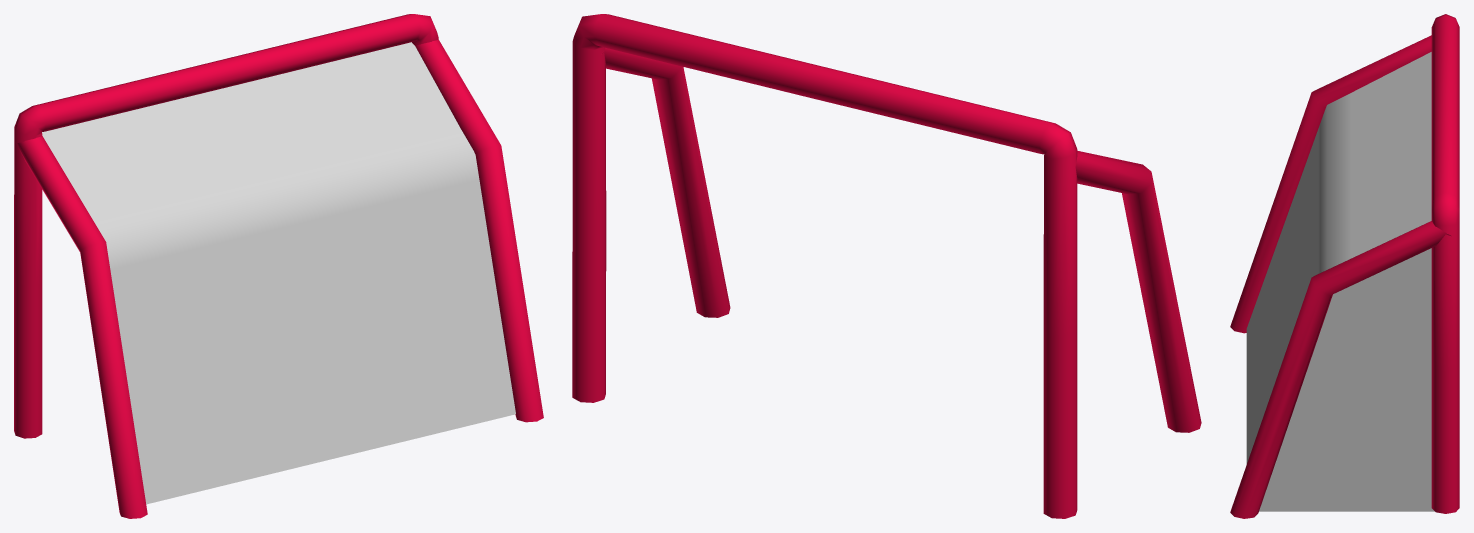
The model's file is goals3.gltf.
3 renders of one model, left to right at view 1: azimuth 30°, elevation 25°; view 2: azimuth 150°, elevation 25°; view 3: azimuth 270°, elevation 25°, orthographic. The views are drawn at different scales.
Bounding box in the file's own units: 1.5 × 1.12 × 0.7342.
